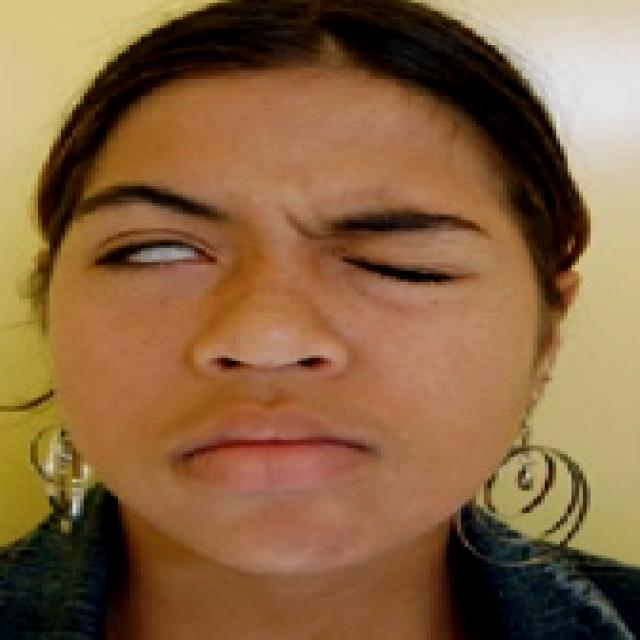stroke_face: (44, 0, 582, 583)
